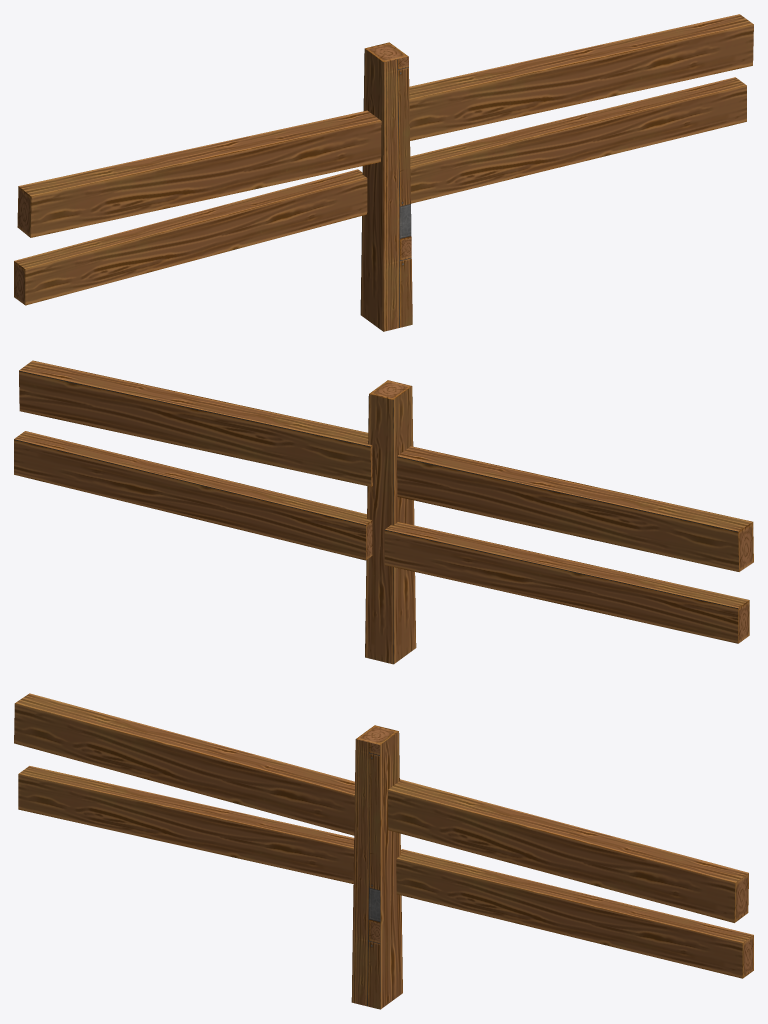
3 renders of one model, top to bottom at view 1: azimuth 30°, elevation 25°; view 2: azimuth 150°, elevation 25°; view 3: azimuth 330°, elevation 25°, orthographic.
Parts seen in each view (by area): view 1: Cube.1071; view 2: Cube.1071; view 3: Cube.1071.
Boxes of the visible parts, left/top/right/bottom form: Cube.1071: left=14, top=14, right=753, bottom=331; Cube.1071: left=14, top=360, right=753, bottom=664; Cube.1071: left=14, top=693, right=753, bottom=1009.
Size of the model in its own units: 405 by 142 by 27.65.
Materials: 1 (1 with a texture image).
